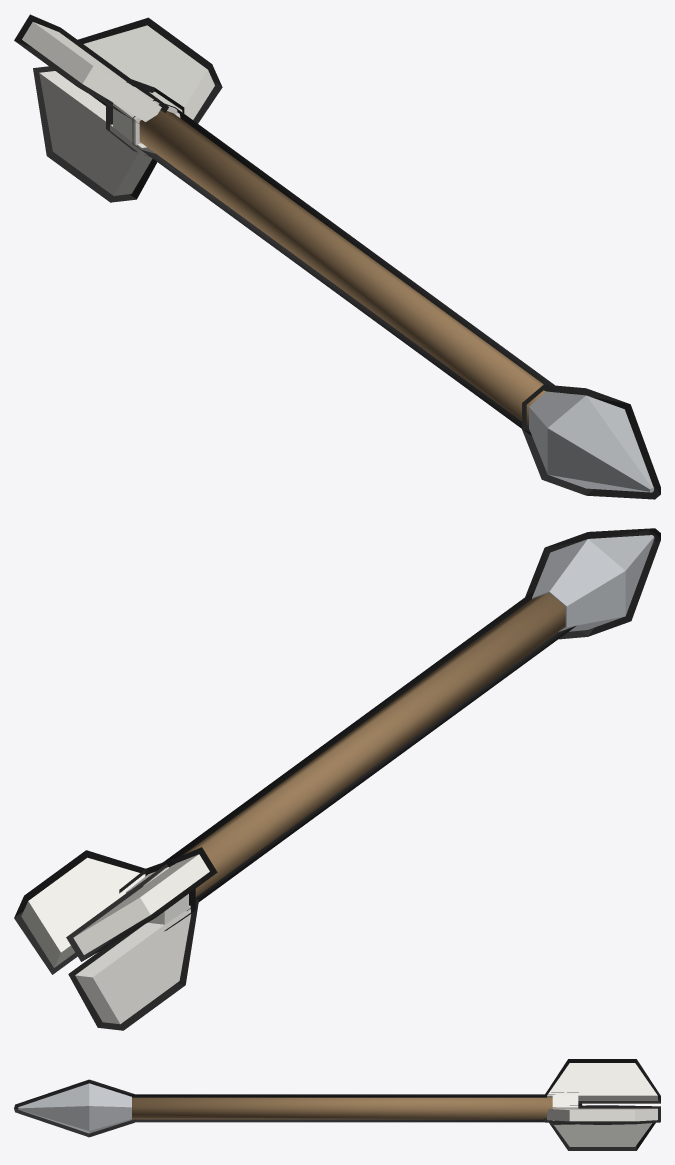
File: td_arrow.fbx
The picture shows the model from 3 angles, top to bottom: view 1: azimuth 30°, elevation 25°; view 2: azimuth 150°, elevation 25°; view 3: azimuth 270°, elevation 25°; orthographic projection. The views are drawn at different scales.
Parts seen in each view (by area): view 1: Prop_Arrow; view 2: Prop_Arrow; view 3: Prop_Arrow.
Boxes of the visible parts, bbox=[...] form: Prop_Arrow: bbox=[14, 14, 660, 499]; Prop_Arrow: bbox=[14, 528, 660, 1030]; Prop_Arrow: bbox=[14, 1059, 660, 1150].
Bounding box in the file's own units: 6.35 × 6.24 × 45.52.
